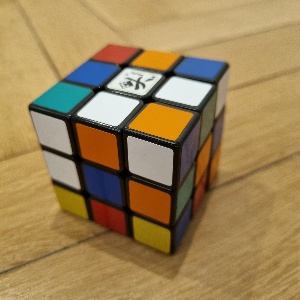cube: (28, 43, 231, 256)
